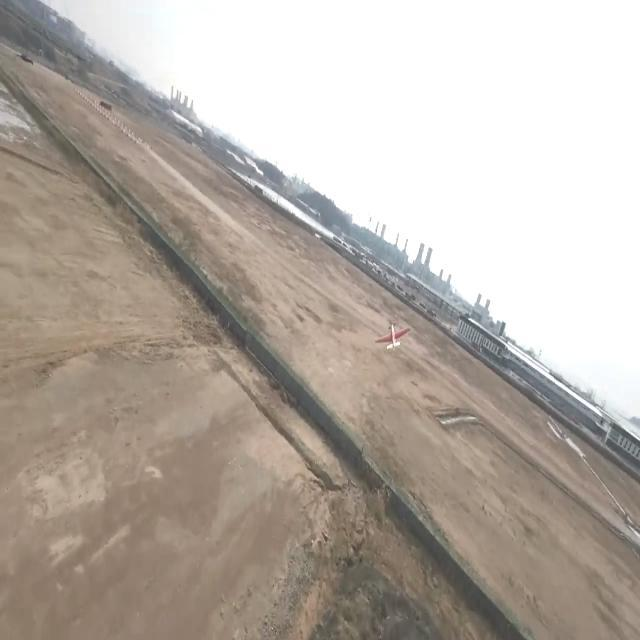iha: (368, 317, 403, 354)
